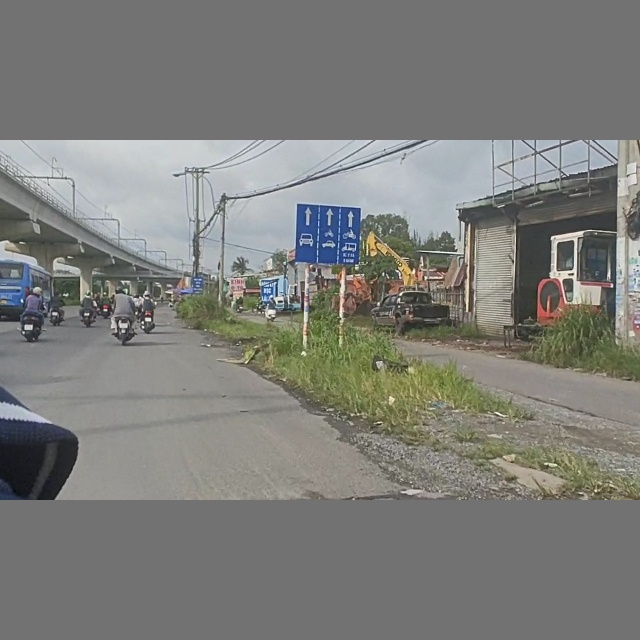R.415a: (294, 201, 360, 265)
